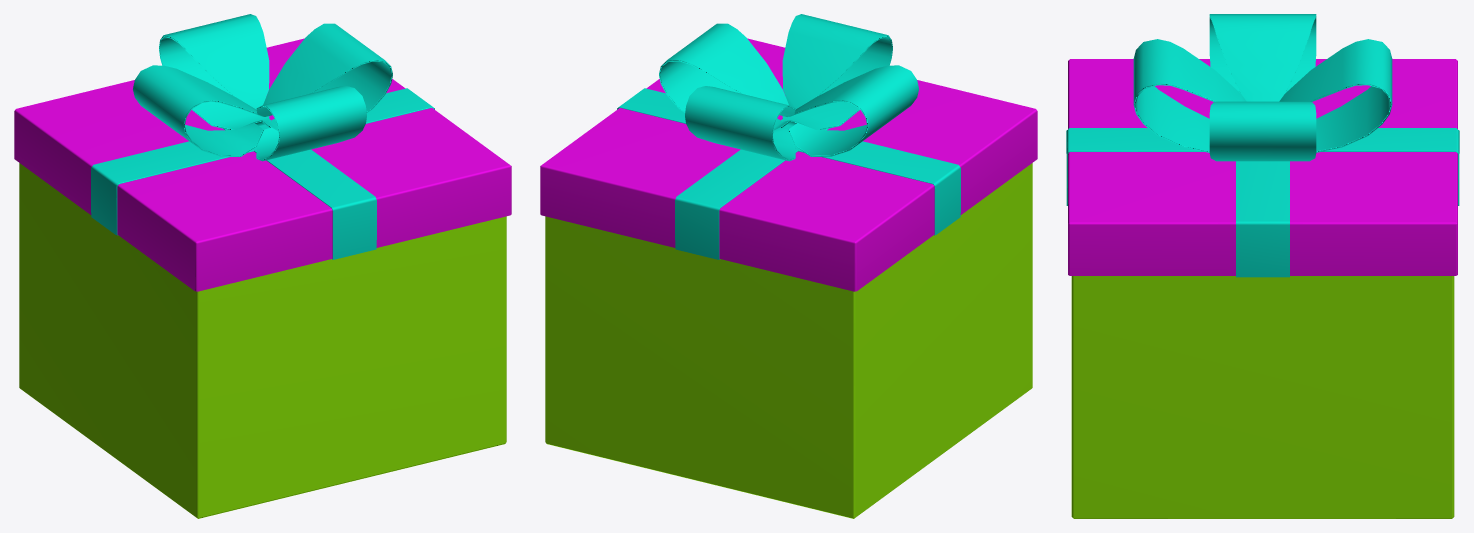
The model's file is gift_green.glb.
The picture shows the model from 3 angles, left to right: view 1: azimuth 30°, elevation 25°; view 2: azimuth 150°, elevation 25°; view 3: azimuth 270°, elevation 25°; orthographic projection. The views are drawn at different scales.
Parts seen in each view (by area): view 1: SK_GiftBox.008, SK_GiftBox.007, SK_GiftBox.006; view 2: SK_GiftBox.008, SK_GiftBox.007, SK_GiftBox.006; view 3: SK_GiftBox.008, SK_GiftBox.007, SK_GiftBox.006.
Boxes of the visible parts, left/top/right/bottom form: SK_GiftBox.008: left=19, top=163, right=506, bottom=518; SK_GiftBox.007: left=14, top=38, right=511, bottom=291; SK_GiftBox.006: left=91, top=14, right=434, bottom=259; SK_GiftBox.008: left=545, top=163, right=1032, bottom=518; SK_GiftBox.007: left=540, top=38, right=1037, bottom=291; SK_GiftBox.006: left=617, top=14, right=960, bottom=259; SK_GiftBox.008: left=1071, top=276, right=1454, bottom=518; SK_GiftBox.007: left=1068, top=59, right=1457, bottom=275; SK_GiftBox.006: left=1066, top=14, right=1459, bottom=277.
Size of the model in its own units: 1.88 by 2 by 1.88.
